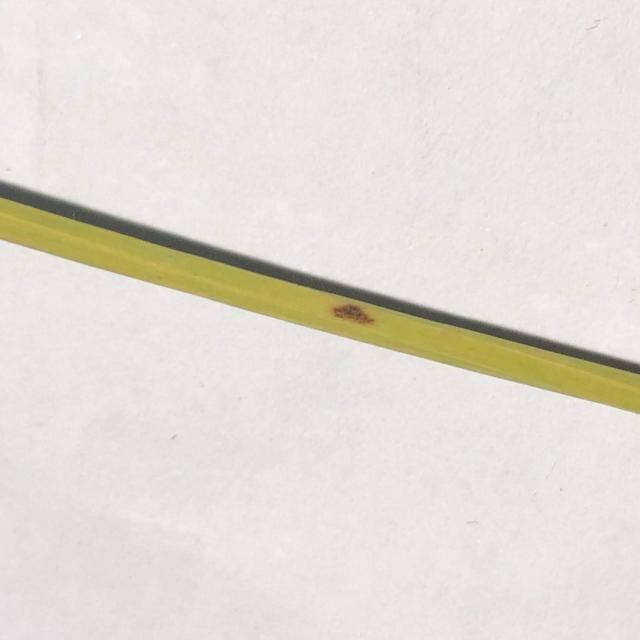Leaf blast: (306, 296, 390, 330)
